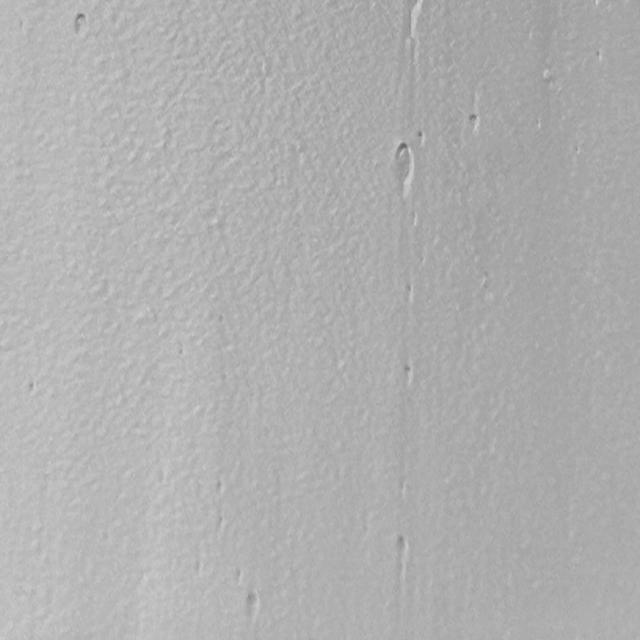pin holes: (387, 144, 415, 193), (391, 534, 410, 566), (69, 10, 90, 38), (243, 593, 263, 622), (399, 362, 416, 388), (212, 476, 229, 499), (230, 566, 246, 586), (402, 280, 415, 304), (467, 114, 481, 134), (25, 378, 39, 397), (407, 210, 419, 231), (592, 48, 605, 66), (414, 129, 426, 147), (542, 65, 555, 81)
